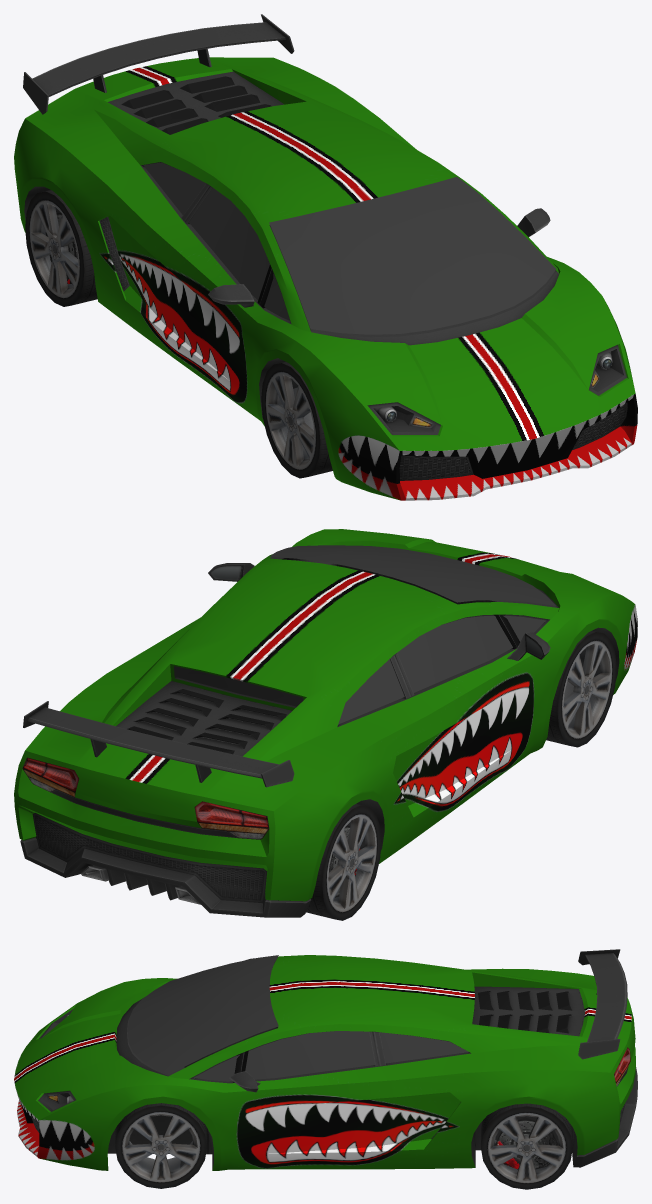
The model's file is car_10.FBX.
3 renders of one model, top to bottom at view 1: azimuth 30°, elevation 25°; view 2: azimuth 150°, elevation 25°; view 3: azimuth 270°, elevation 25°, orthographic. The views are drawn at different scales.
Visible parts, largest first — view 1: Body_5, Matte_4, Wheel_Back_R, Wheel_R; view 2: Body_5, Matte_4, Wheel_Back_R, Wheel_R, Taillights_4; view 3: Body_5, Matte_4, Wheel_L, Wheel_Back_L.
Part boxes in pixels (x1,y1,x2,y2): Body_5: [14, 57, 637, 500]; Matte_4: [23, 14, 627, 480]; Wheel_Back_R: [25, 190, 97, 306]; Wheel_R: [261, 361, 332, 478]; Body_5: [14, 529, 637, 901]; Matte_4: [20, 557, 619, 917]; Wheel_Back_R: [306, 803, 381, 920]; Wheel_R: [546, 630, 616, 747]; Taillights_4: [22, 757, 269, 839]; Body_5: [14, 955, 635, 1170]; Matte_4: [31, 949, 637, 1169]; Wheel_L: [115, 1103, 207, 1188]; Wheel_Back_L: [481, 1103, 572, 1189].
Bounding box in the file's own units: 2.12 × 1.17 × 4.39.
Materials: 2 (2 with a texture image).
